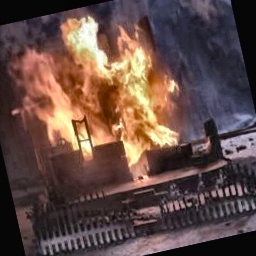fire: (1, 0, 201, 192)
